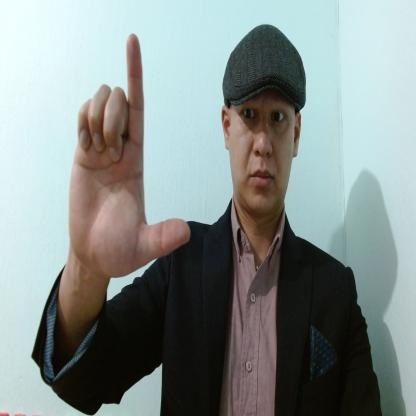L: (69, 33, 190, 277)
